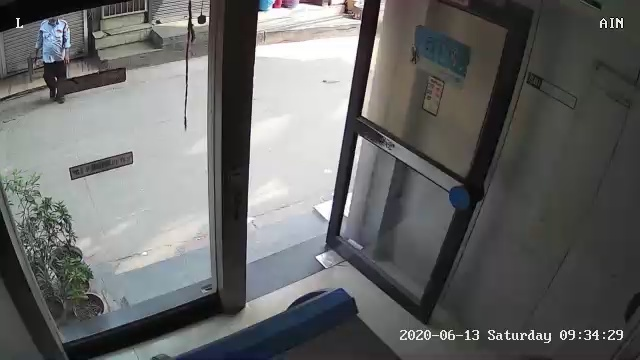open: (202, 4, 539, 325)
